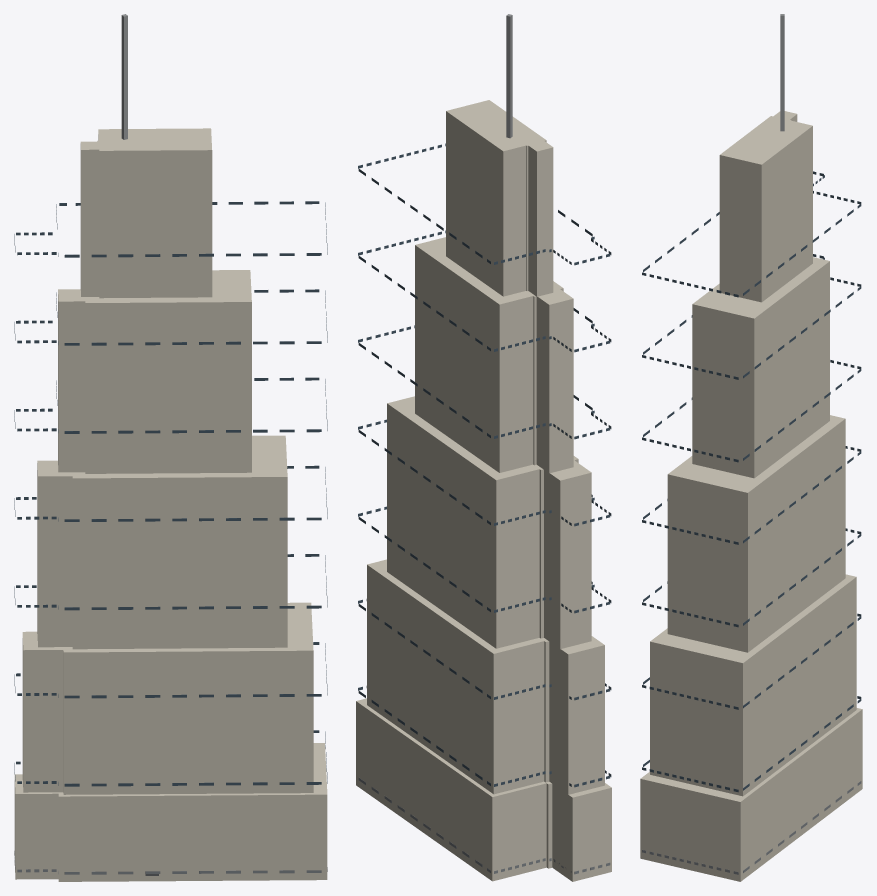
The model's file is doitt-778052__lod_0.glb.
The picture shows the model from 3 angles, left to right: view 1: azimuth 30°, elevation 25°; view 2: azimuth 150°, elevation 25°; view 3: azimuth 270°, elevation 25°; orthographic projection. The views are drawn at different scales.
Parts seen in each view (by area): view 1: doitt:778052__lod_0__esb_tier_02, doitt:778052__lod_0__esb_tier_01, doitt:778052__lod_0__esb_tier_03, doitt:778052__lod_0__esb_tier_00, doitt:778052__lod_0__esb_tier_04, doitt:778052__lod_0__pinnacle_unknown; view 2: doitt:778052__lod_0__esb_tier_02, doitt:778052__lod_0__esb_tier_01, doitt:778052__lod_0__esb_tier_03, doitt:778052__lod_0__esb_tier_00, doitt:778052__lod_0__esb_tier_04, doitt:778052__lod_0__pinnacle_unknown; view 3: doitt:778052__lod_0__esb_tier_02, doitt:778052__lod_0__esb_tier_01, doitt:778052__lod_0__esb_tier_03, doitt:778052__lod_0__esb_tier_00, doitt:778052__lod_0__esb_tier_04, doitt:778052__lod_0__pinnacle_unknown.
Part boxes in pixels (left/top/right/bottom): doitt:778052__lod_0__esb_tier_02: left=37, top=435, right=287, bottom=649; doitt:778052__lod_0__esb_tier_01: left=22, top=602, right=313, bottom=794; doitt:778052__lod_0__esb_tier_03: left=58, top=270, right=251, bottom=473; doitt:778052__lod_0__esb_tier_00: left=14, top=743, right=327, bottom=881; doitt:778052__lod_0__esb_tier_04: left=80, top=128, right=212, bottom=298; doitt:778052__lod_0__pinnacle_unknown: left=121, top=14, right=127, bottom=139; doitt:778052__lod_0__esb_tier_02: left=387, top=396, right=591, bottom=648; doitt:778052__lod_0__esb_tier_01: left=367, top=559, right=604, bottom=794; doitt:778052__lod_0__esb_tier_03: left=415, top=237, right=573, bottom=473; doitt:778052__lod_0__esb_tier_00: left=356, top=698, right=611, bottom=881; doitt:778052__lod_0__esb_tier_04: left=446, top=100, right=553, bottom=296; doitt:778052__lod_0__pinnacle_unknown: left=506, top=14, right=512, bottom=138; doitt:778052__lod_0__esb_tier_02: left=667, top=415, right=845, bottom=652; doitt:778052__lod_0__esb_tier_01: left=650, top=574, right=856, bottom=796; doitt:778052__lod_0__esb_tier_03: left=692, top=257, right=829, bottom=478; doitt:778052__lod_0__esb_tier_00: left=640, top=708, right=862, bottom=881; doitt:778052__lod_0__esb_tier_04: left=719, top=111, right=812, bottom=302; doitt:778052__lod_0__pinnacle_unknown: left=780, top=14, right=784, bottom=131.
Size of the model in its own units: 157 by 443 by 113.
